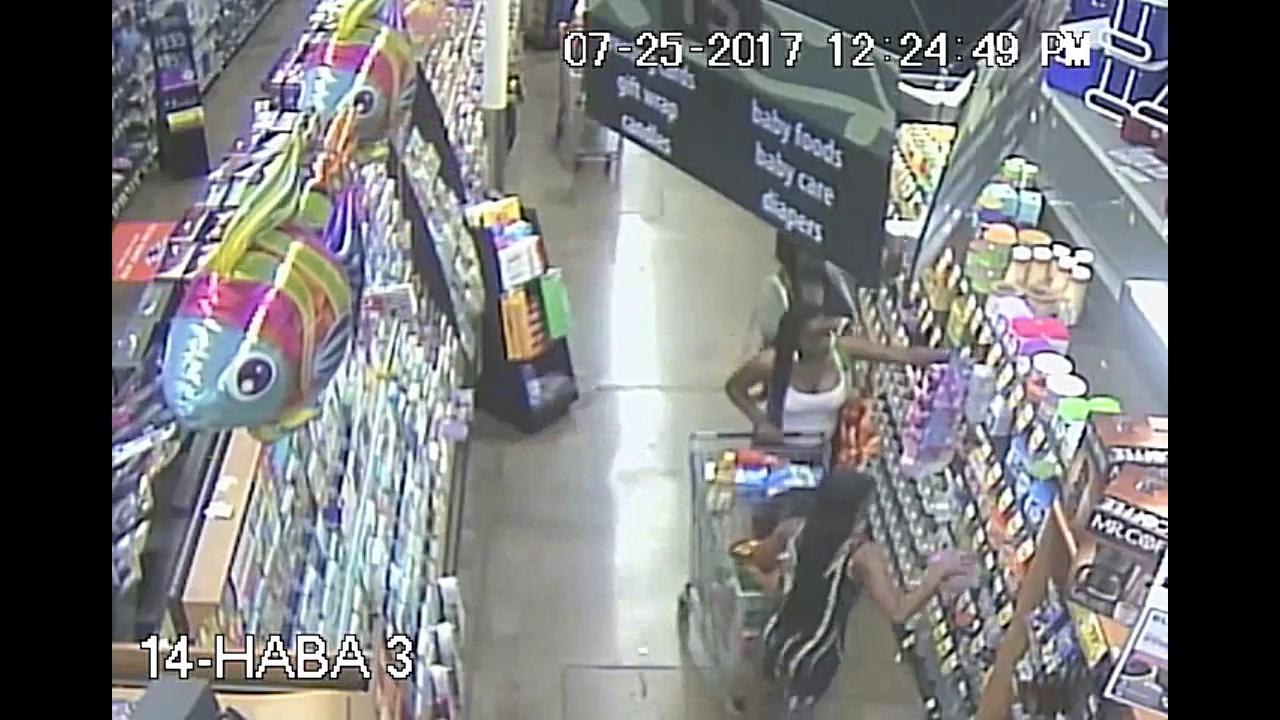Product: (932, 547, 989, 594)
Product-Picked: (744, 465, 1032, 720)
Regular: (714, 219, 922, 464)
Shopping-Cart: (662, 427, 823, 521)
